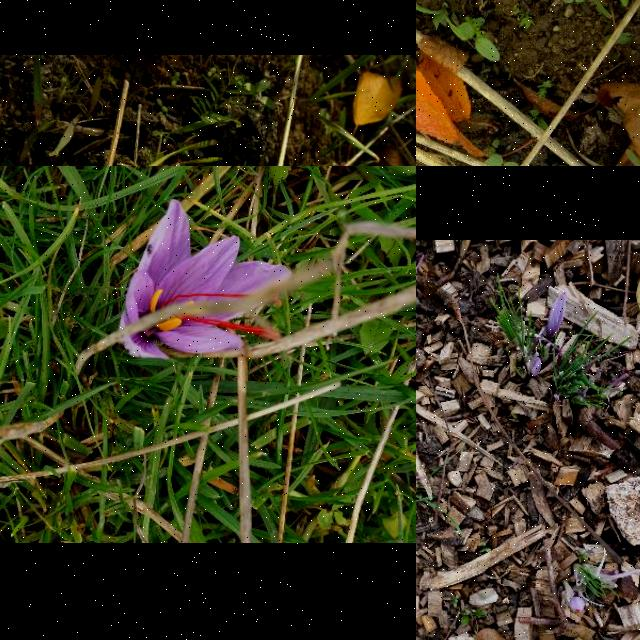flower: (119, 198, 293, 360), (546, 290, 566, 342), (570, 597, 586, 615)
